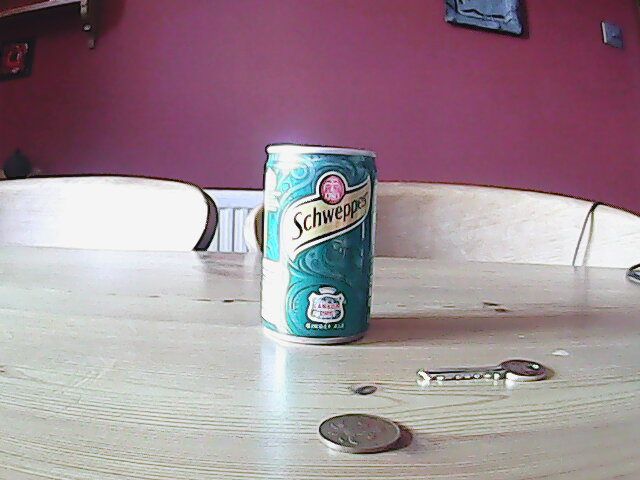Can: (257, 140, 377, 346)
Coin: (314, 410, 403, 456)
Key: (415, 357, 547, 386)
